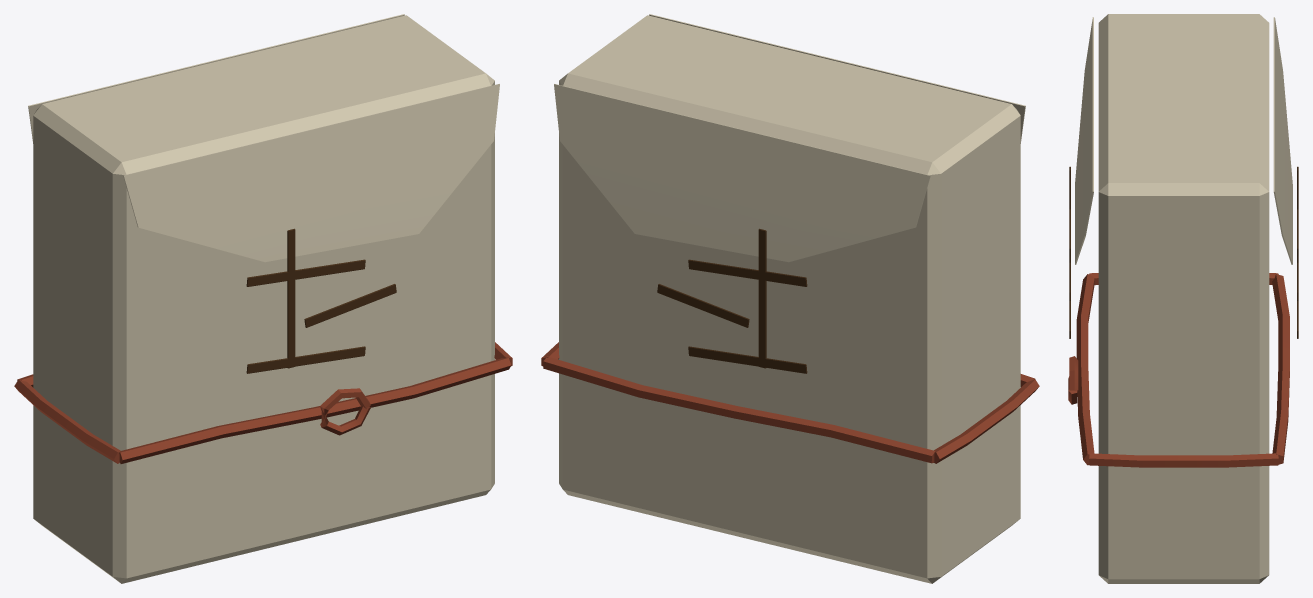
The model's file is memory-seal-lod1.fbx.
3 renders of one model, left to right at view 1: azimuth 30°, elevation 25°; view 2: azimuth 150°, elevation 25°; view 3: azimuth 270°, elevation 25°, orthographic. The views are drawn at different scales.
Visible parts, largest first — view 1: Soft folded paper packet, Layered folded envelope flap.001, Cord across seal face.001, Continuous packet edge binding, Stamped raised ink stroke.003, Hand tied cord loop, Stamped vertical ink stroke.001, Stamped raised ink stroke.005, Layered folded envelope flap, Stamped raised ink stroke.004; view 2: Soft folded paper packet, Layered folded envelope flap, Cord across seal face, Continuous packet edge binding, Stamped raised ink stroke.002, Stamped raised ink stroke, Stamped vertical ink stroke, Layered folded envelope flap.001, Stamped raised ink stroke.001; view 3: Soft folded paper packet, Layered folded envelope flap, Layered folded envelope flap.001, Continuous packet edge binding.001, Cord across seal face.001, Cord across seal face, Hand tied cord loop.
Part boxes in pixels (x1,y1,x2,y2): Soft folded paper packet: (33,15,494,583); Layered folded envelope flap.001: (123,84,499,262); Cord across seal face.001: (119,357,511,463); Continuous packet edge binding: (14,379,120,463); Stamped raised ink stroke.003: (246,259,365,286); Hand tied cord loop: (320,388,370,435); Stamped vertical ink stroke.001: (287,228,295,368); Stamped raised ink stroke.005: (246,346,365,373); Layered folded envelope flap: (28,14,404,143); Stamped raised ink stroke.004: (304,284,396,327); Soft folded paper packet: (559,15,1020,583); Layered folded envelope flap: (554,84,930,262); Cord across seal face: (543,356,935,463); Continuous packet edge binding: (934,379,1039,463); Stamped raised ink stroke.002: (688,346,807,373); Stamped raised ink stroke: (688,259,807,286); Stamped vertical ink stroke: (758,228,766,368); Layered folded envelope flap.001: (649,14,1025,143); Stamped raised ink stroke.001: (657,284,749,327); Soft folded paper packet: (1098,14,1269,583); Layered folded envelope flap: (1273,17,1292,264); Layered folded envelope flap.001: (1075,17,1093,264); Continuous packet edge binding.001: (1089,453,1278,467); Cord across seal face.001: (1076,274,1094,465); Cord across seal face: (1272,274,1289,464); Hand tied cord loop: (1068,356,1078,404).
Bounding box in the file's own units: 27.52 × 27.2 × 14.15.
